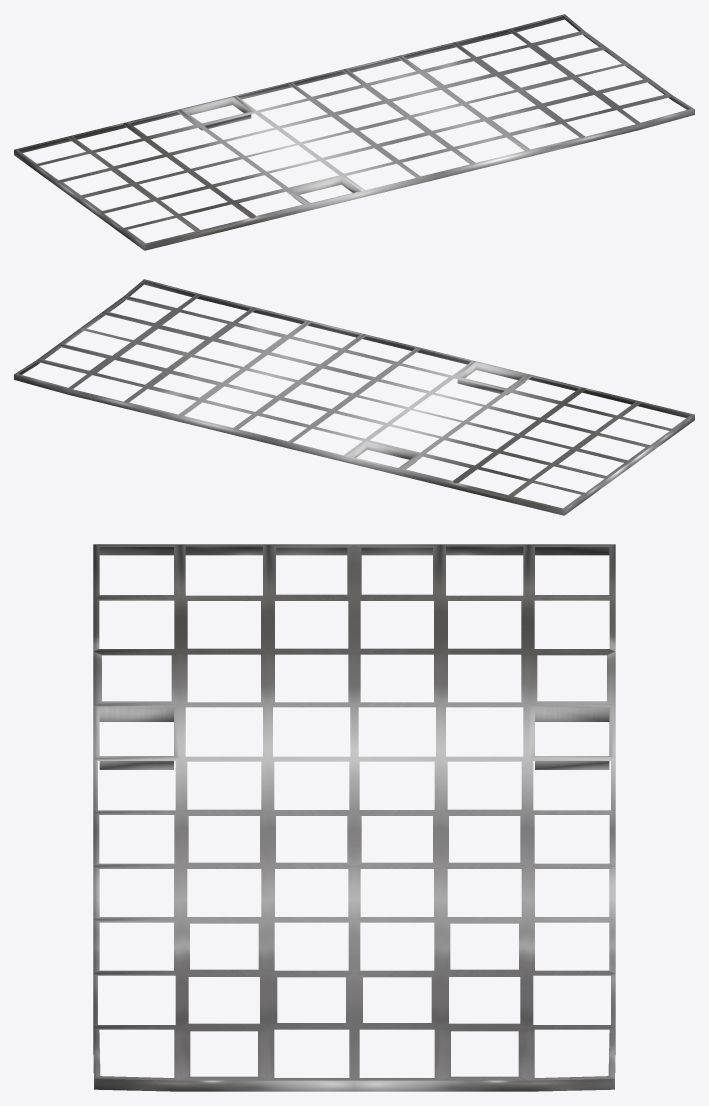
Rendered from ami.FBX.
The picture shows the model from 3 angles, top to bottom: view 1: azimuth 30°, elevation 25°; view 2: azimuth 150°, elevation 25°; view 3: azimuth 270°, elevation 25°; orthographic projection. The views are drawn at different scales.
Parts seen in each view (by area): view 1: Box001; view 2: Box001; view 3: Box001.
Boxes of the visible parts, <box> form: Box001: <box>14,14,694,250</box>; Box001: <box>14,279,694,515</box>; Box001: <box>93,544,615,1091</box>.
Size of the model in its own units: 113 by 1.65 by 46.42.
1 material, 1 textured.
